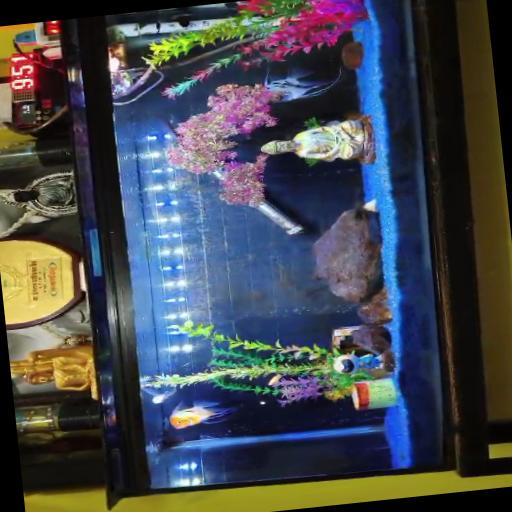Fish: (265, 67, 341, 101), (169, 401, 237, 428), (268, 373, 282, 384)
